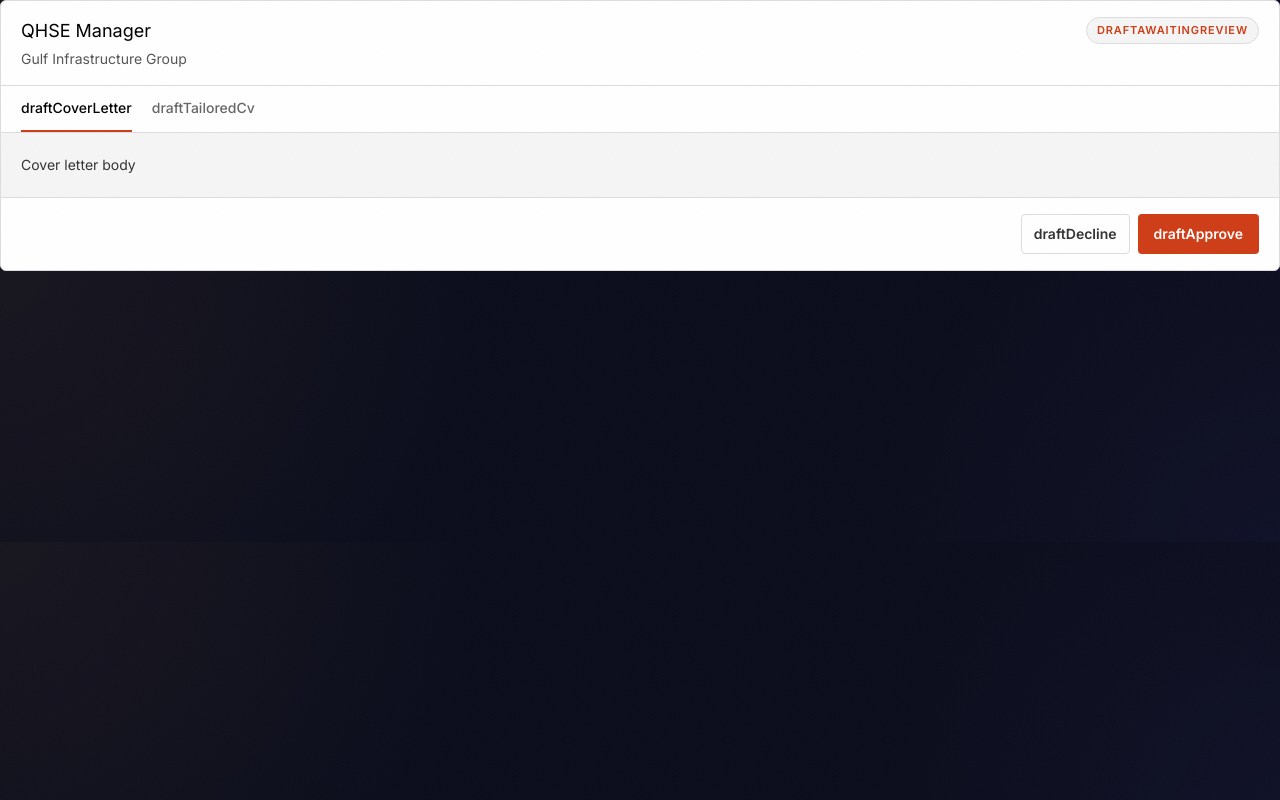
Test: ApplicationDraftCard — canonical approval confirmation › double click sends exactly one mutation
What coordinates should you click on to do the following:
click the button "draftApprove"
I would click on:
 (1198, 234)
Its box is [1138,214,1259,254].
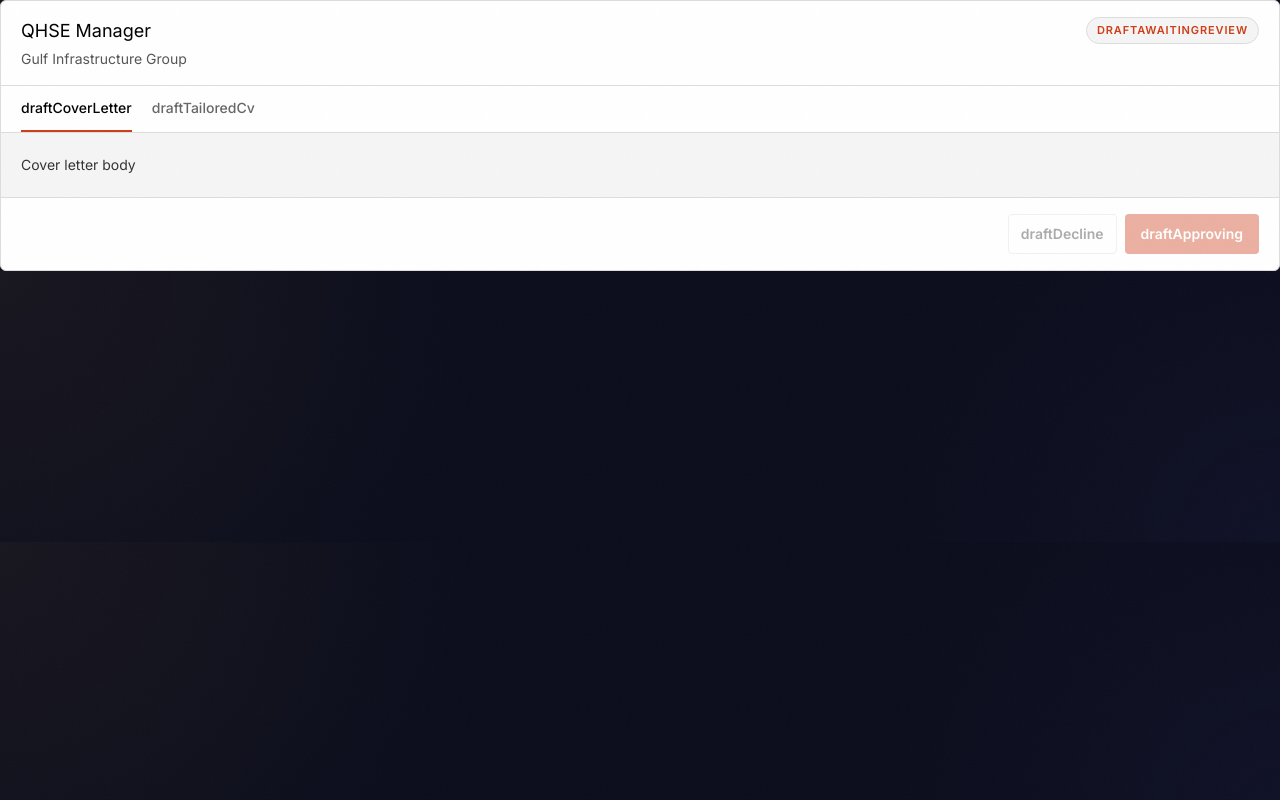
What coordinates should you click on to do the following:
click the button with aria-label "draftApprove"
I would click on:
 (1192, 234)
Its box is [1124,214,1259,254].
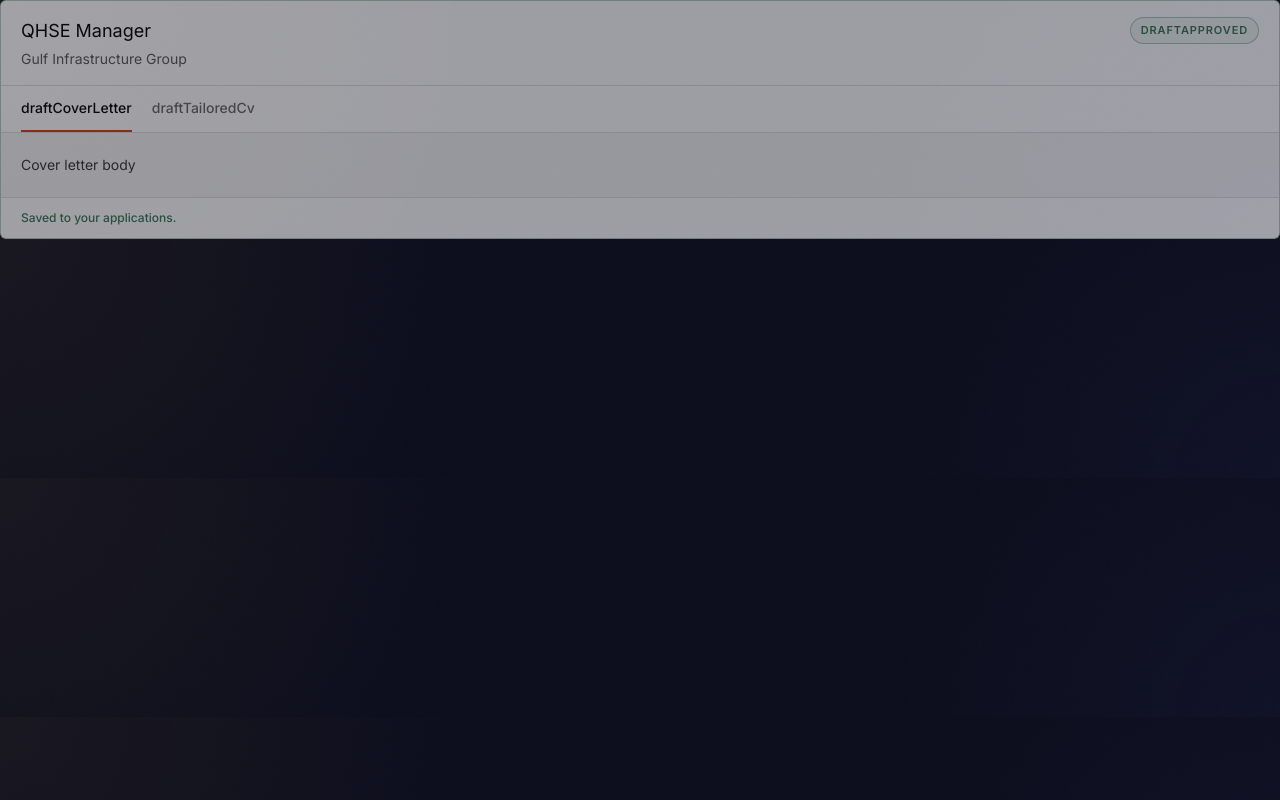
expect the text "draftApproved" is shown: met, box [1130,17,1259,44]
